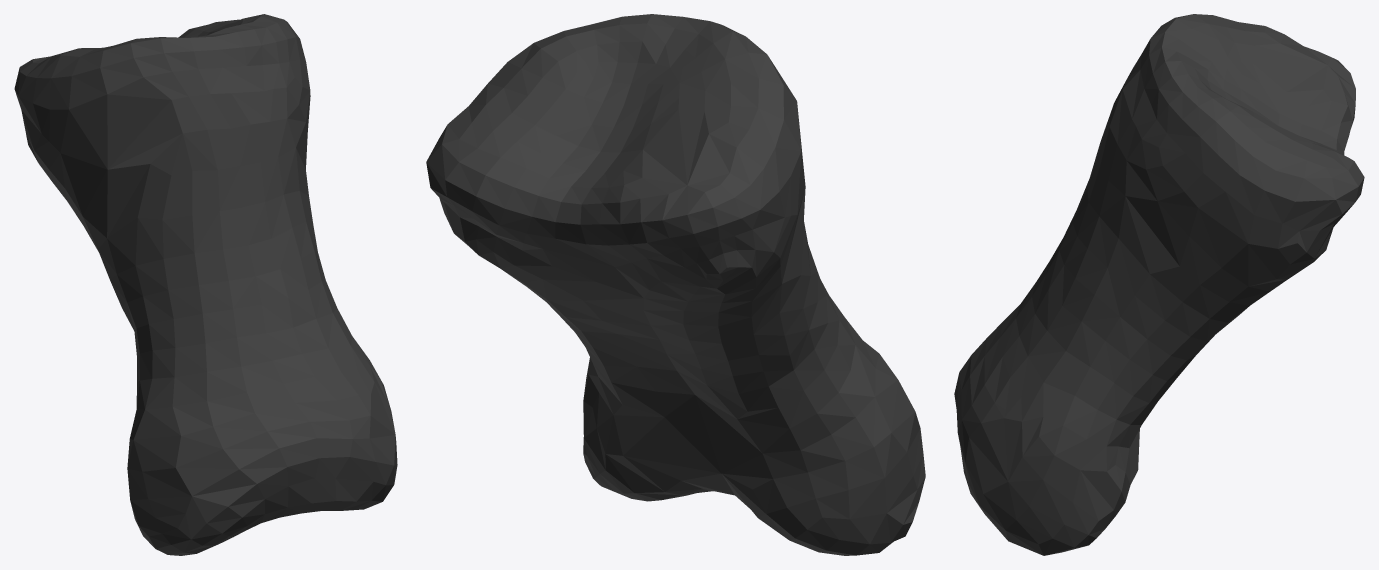
File: LFL_P1.glb
3 renders of one model, left to right at view 1: azimuth 30°, elevation 25°; view 2: azimuth 150°, elevation 25°; view 3: azimuth 270°, elevation 25°, orthographic. The views are drawn at different scales.
Visible parts, largest first — view 1: LFL_P1; view 2: LFL_P1; view 3: LFL_P1.
Part boxes in pixels (x1,y1,x2,y2): LFL_P1: (14,14,397,555); LFL_P1: (426,14,925,555); LFL_P1: (954,14,1364,555).
Bounding box in the file's own units: 11.41 × 18.78 × 14.89.
1 material, 1 textured.
